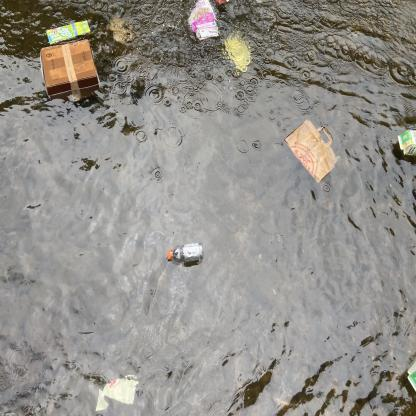trash: (39, 37, 101, 103), (282, 118, 340, 186), (94, 374, 141, 414), (184, 0, 222, 43), (44, 18, 93, 50), (222, 32, 254, 76), (164, 240, 208, 269), (395, 126, 416, 161), (402, 355, 416, 396), (254, 0, 283, 7), (214, 0, 232, 6)
